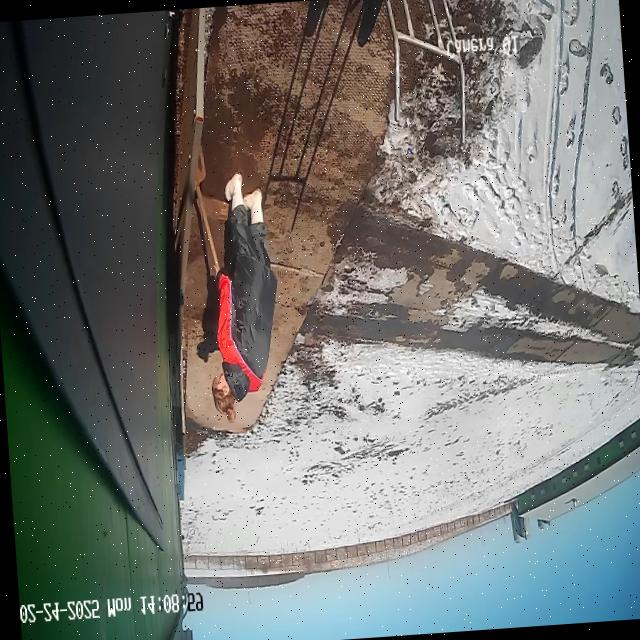Red uniform: (195, 167, 288, 424)
